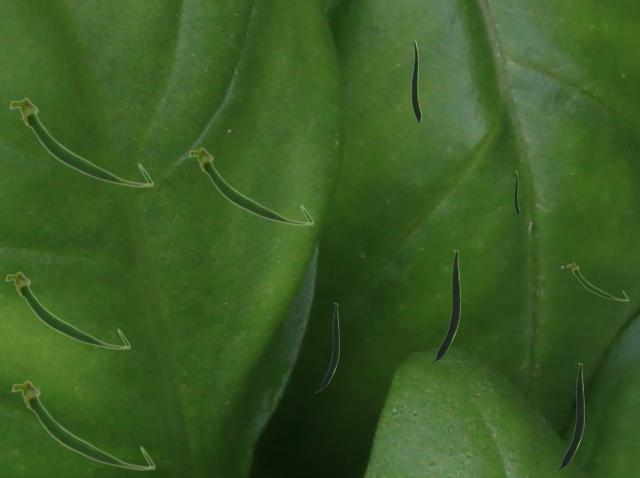french_bean: (8, 97, 153, 187), (10, 380, 155, 470), (4, 271, 130, 349), (187, 147, 313, 225), (429, 250, 459, 362), (554, 363, 583, 470), (566, 262, 628, 300), (316, 303, 338, 391), (411, 39, 420, 123), (514, 170, 518, 215)
